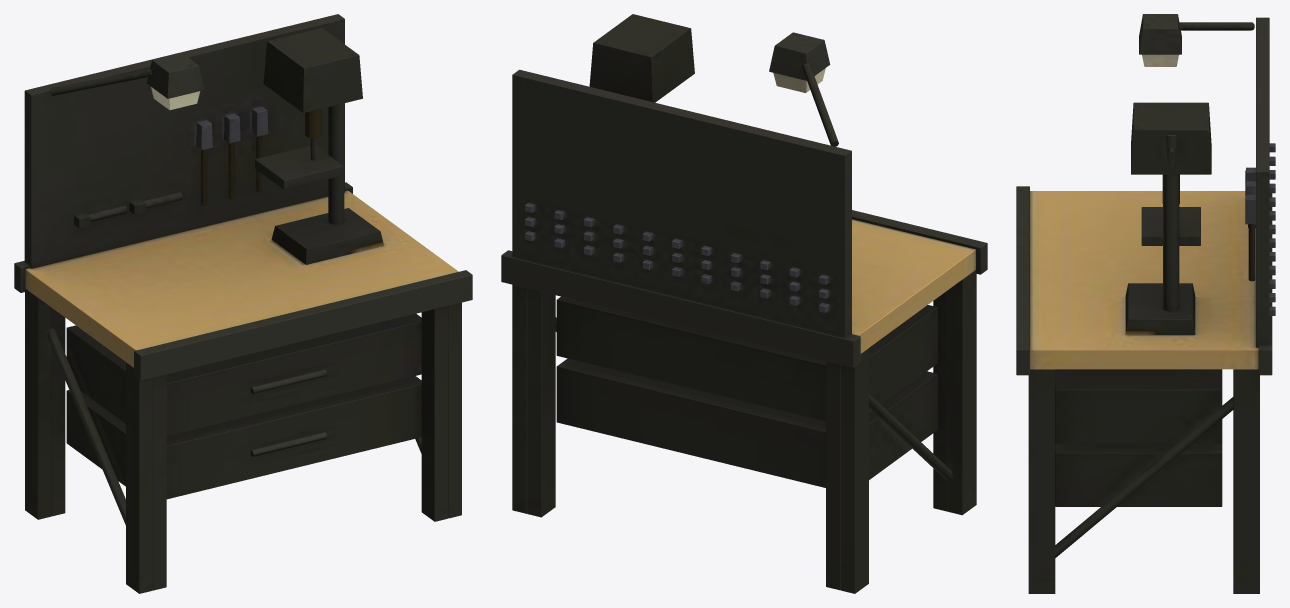
File: DD_workbench2_L0.glb
3 renders of one model, left to right at view 1: azimuth 30°, elevation 25°; view 2: azimuth 150°, elevation 25°; view 3: azimuth 270°, elevation 25°, orthographic. The views are drawn at different scales.
Visible parts, largest first — view 1: DD_workbench2_L0; view 2: DD_workbench2_L0; view 3: DD_workbench2_L0.
Boxes of the visible parts, bbox=[...] form: DD_workbench2_L0: bbox=[14, 14, 472, 593]; DD_workbench2_L0: bbox=[501, 14, 987, 593]; DD_workbench2_L0: bbox=[1016, 14, 1275, 593].
Size of the model in its own units: 1.44 by 1.9 by 0.9625.
Materials: 1 (1 with a texture image).
